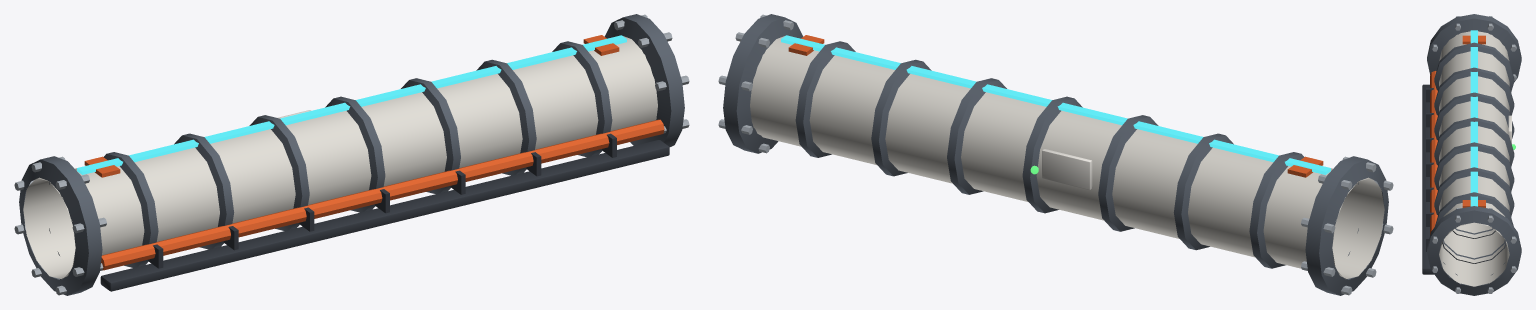
The model's file is pipe_span.glb.
3 renders of one model, left to right at view 1: azimuth 30°, elevation 25°; view 2: azimuth 150°, elevation 25°; view 3: azimuth 270°, elevation 25°, orthographic. The views are drawn at different scales.
Visible parts, largest first — view 1: pipe_span; view 2: pipe_span; view 3: pipe_span.
Part boxes in pixels (x1,y1,x2,y2): pipe_span: [14, 14, 689, 295]; pipe_span: [718, 14, 1393, 295]; pipe_span: [1422, 14, 1521, 295].
Bounding box in the file's own units: 4.05 × 0.8 × 0.84.
